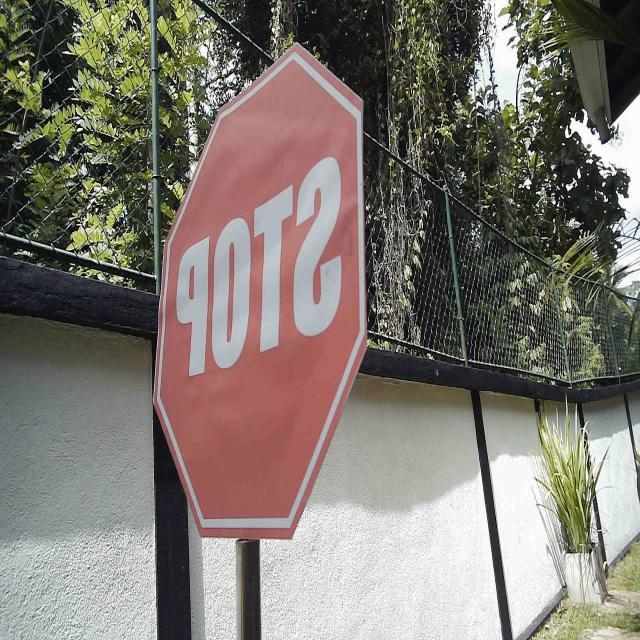stop: (151, 40, 368, 542)
